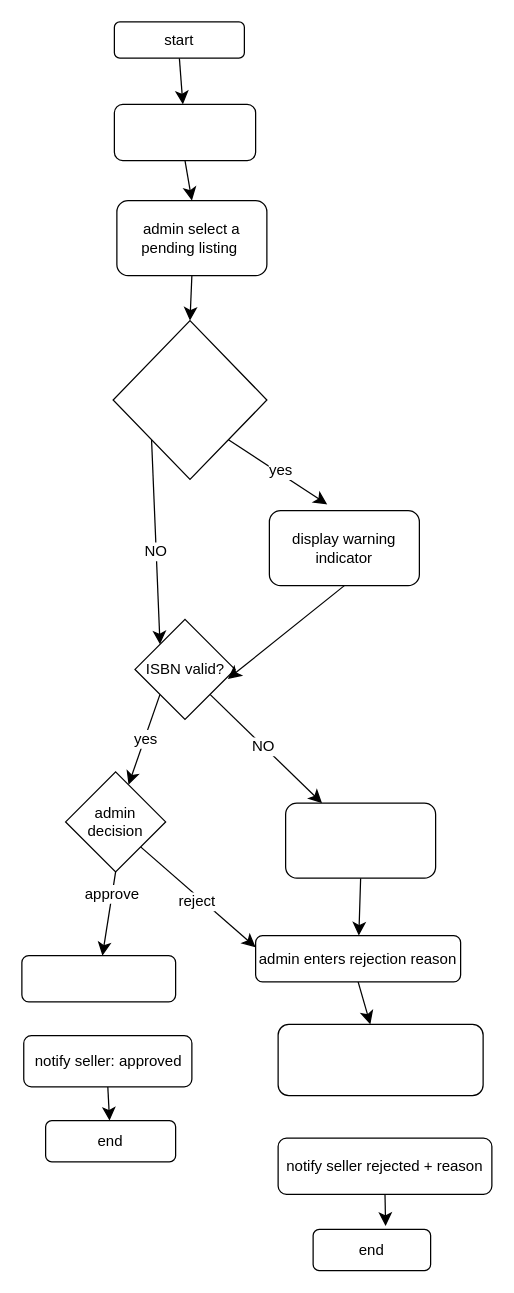
The diagram is 514 pixels wide and 1293 high, and some of its shapes have lost their labels. Each missing label, with the centre of its shape:
admin must reject/ return for correction: the point at 360,840
admin opens pending listing queue: the point at 184,132
set status = published: the point at 98,978
set status = rejected, hidden from buyers: the point at 380,1059
system: prohibited word /phrase match?: the point at 189,399
